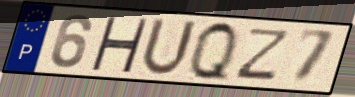6: (49, 13, 93, 70)
7: (295, 27, 336, 87)
H: (88, 14, 151, 74)
Q: (188, 18, 240, 85)
U: (137, 16, 200, 79)
Z: (231, 26, 294, 82)
